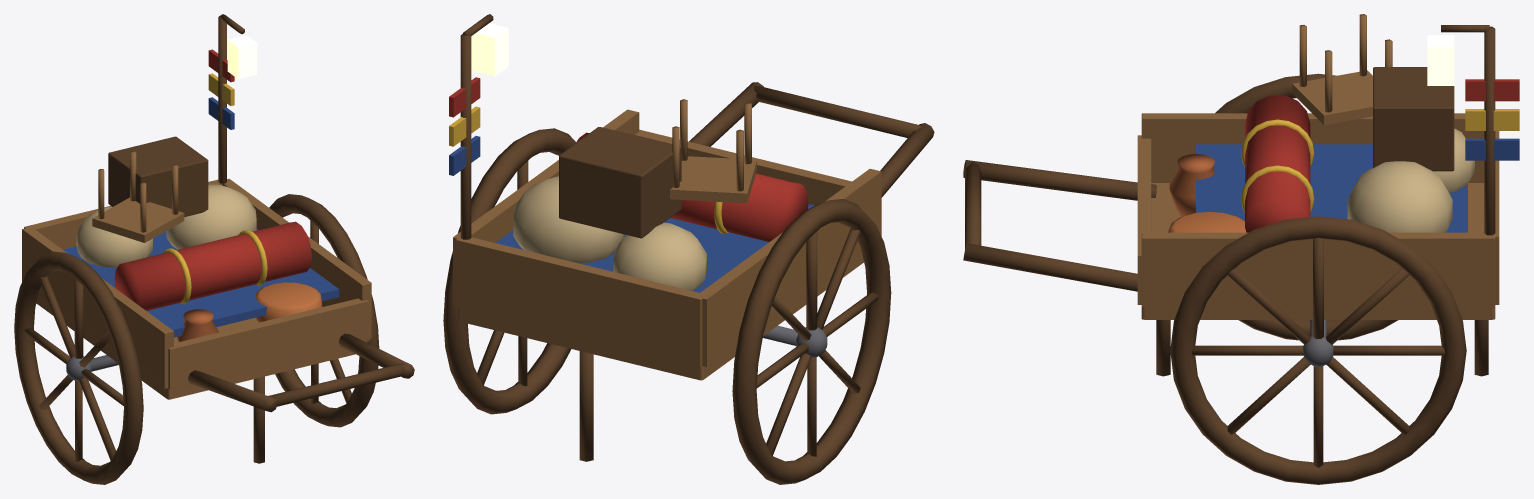
Rendered from karren.glb.
3 views of the same model, side by side, from view 1: azimuth 30°, elevation 25°; view 2: azimuth 150°, elevation 25°; view 3: azimuth 270°, elevation 25° (orthographic). The views are drawn at different scales.
Parts seen in each view (by area): view 1: Torus; view 2: Torus; view 3: Torus.
Boxes of the visible parts, x1,y1,x2,y2 form: Torus: (14,14,414,484); Torus: (443,14,934,484); Torus: (963,14,1519,484).
Size of the model in its own units: 1.35 by 1.81 by 2.05.
